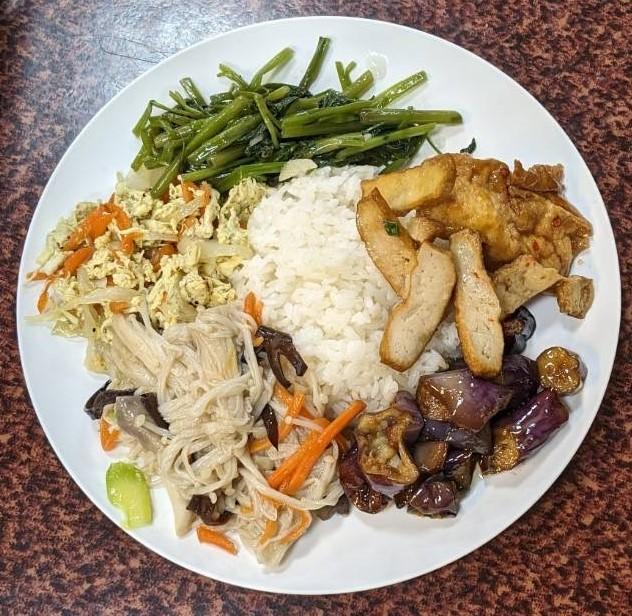big fried chicken leg: (13, 10, 624, 599)
big herbal chicken leg: (244, 162, 451, 411)
braised fish fillet: (86, 303, 340, 554), (362, 149, 597, 368), (342, 343, 595, 521), (136, 45, 435, 183), (50, 175, 257, 331)
